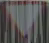Give way: (2, 1, 43, 42)
